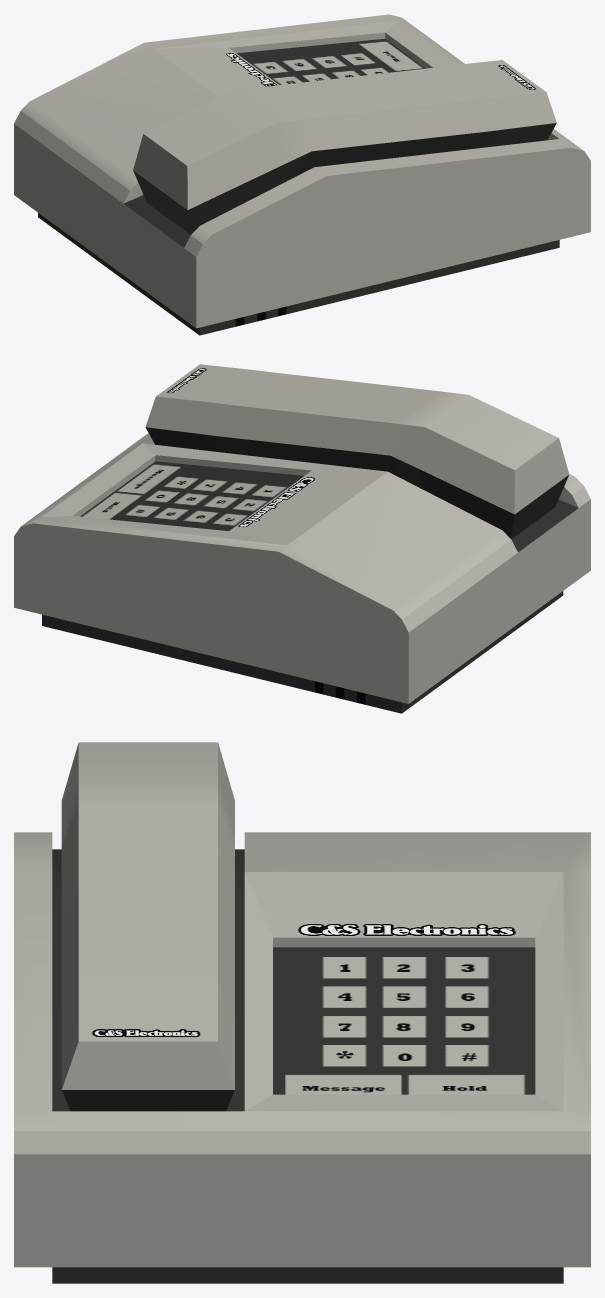
The model's file is Telephone.fbx.
3 renders of one model, top to bottom at view 1: azimuth 30°, elevation 25°; view 2: azimuth 150°, elevation 25°; view 3: azimuth 270°, elevation 25°, orthographic. The views are drawn at different scales.
Parts seen in each view (by area): view 1: PhoneBase, PhoneReceiver; view 2: PhoneBase, PhoneReceiver; view 3: PhoneBase, PhoneReceiver.
Boxes of the visible parts, x1,y1,x2,y2 form: PhoneBase: (14, 14, 590, 335); PhoneReceiver: (133, 60, 556, 234); PhoneBase: (14, 433, 590, 713); PhoneReceiver: (145, 364, 569, 539); PhoneBase: (14, 832, 590, 1283); PhoneReceiver: (61, 742, 234, 1111).
Bounding box in the file's own units: 0.25 × 0.1124 × 0.2.
